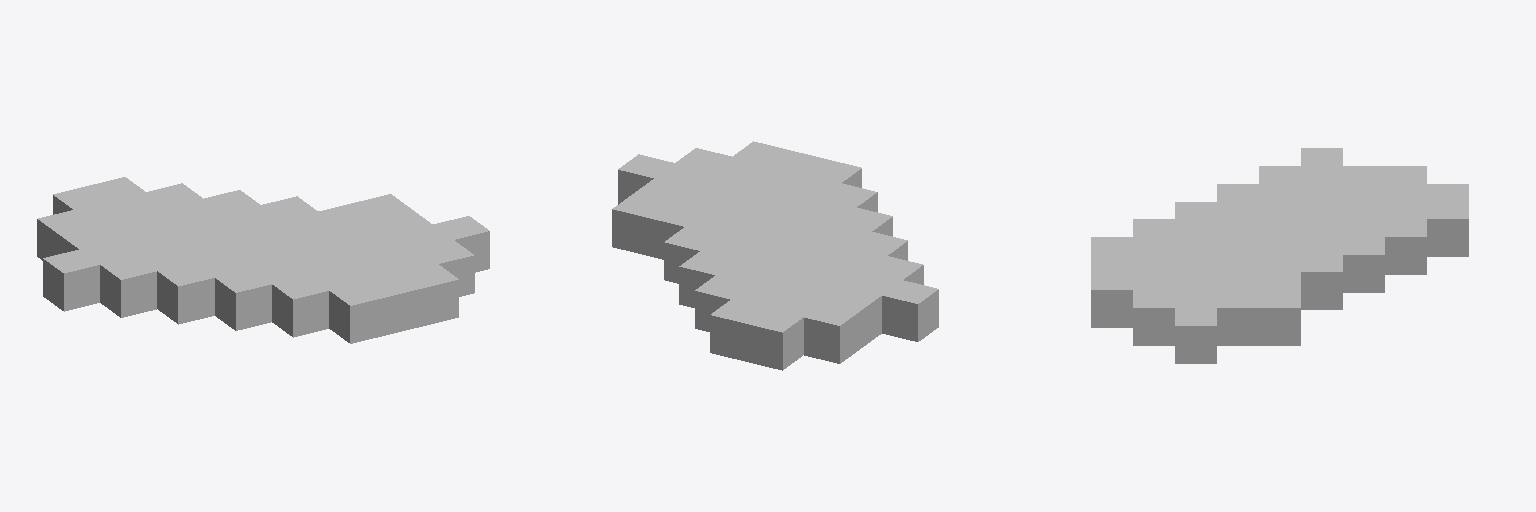
The model's file is CookedMeat.obj.
The picture shows the model from 3 angles: view 1: azimuth 30°, elevation 25°; view 2: azimuth 150°, elevation 25°; view 3: azimuth 270°, elevation 25°; orthographic projection.
Size of the model in its own units: 10 by 1 by 9.